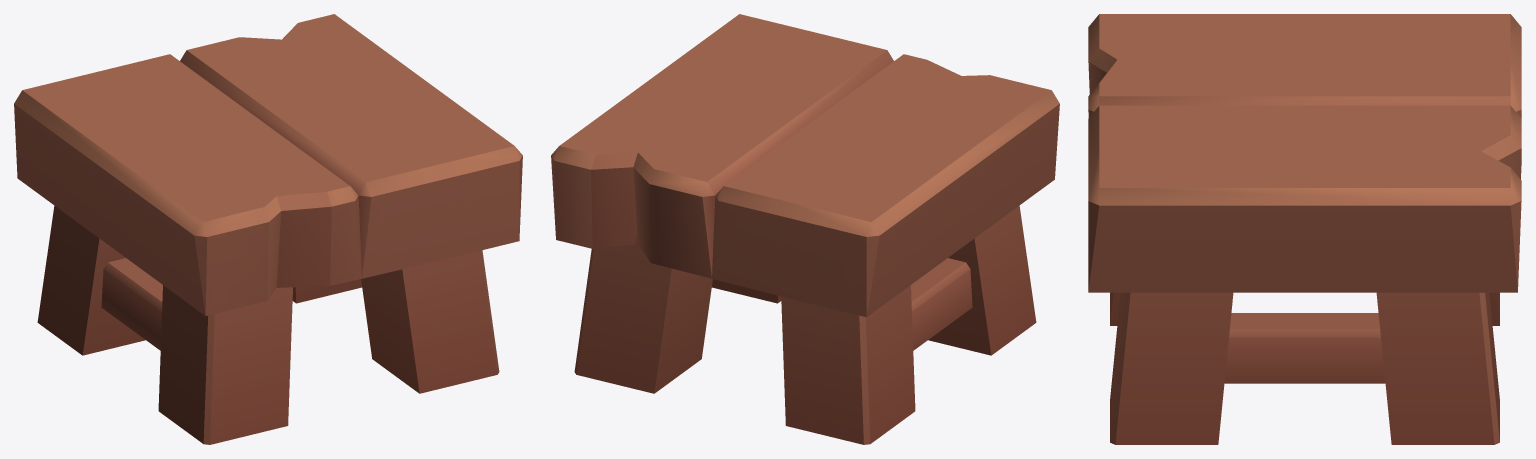
File: stool.fbx
The picture shows the model from 3 angles, left to right: view 1: azimuth 30°, elevation 25°; view 2: azimuth 150°, elevation 25°; view 3: azimuth 270°, elevation 25°; orthographic projection. The views are drawn at different scales.
Parts seen in each view (by area): view 1: stool; view 2: stool; view 3: stool.
Boxes of the visible parts, <box> form: stool: <box>14,14,522,444</box>; stool: <box>551,14,1059,444</box>; stool: <box>1088,14,1521,444</box>.
Bounding box in the file's own units: 75 × 50 × 75.
Materials: 1 (1 with a texture image).
